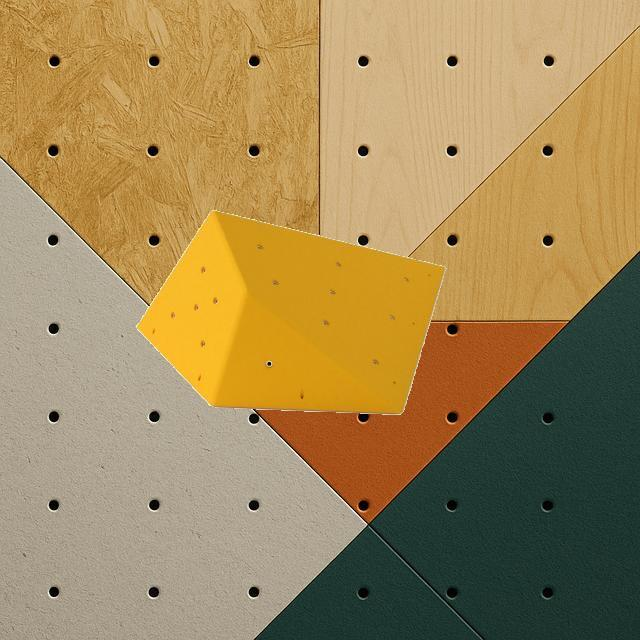Volume: (136, 210, 447, 414)
